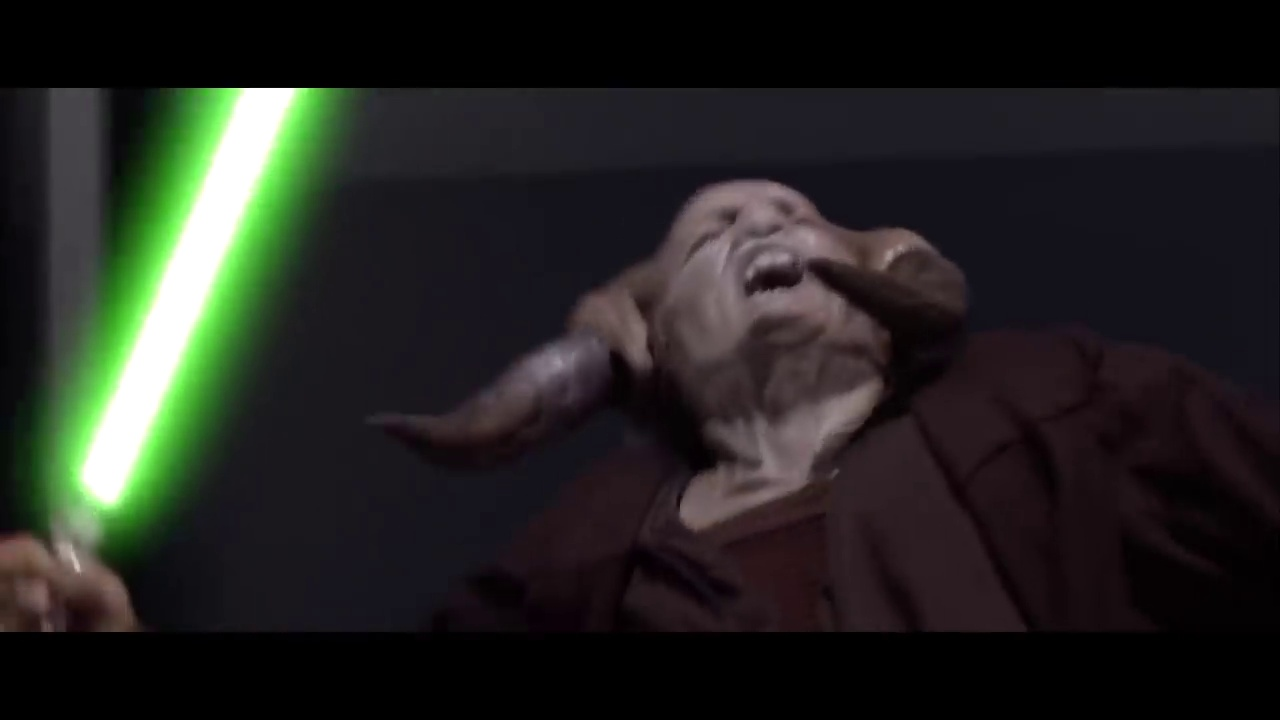lightsaber: (17, 80, 325, 622)
